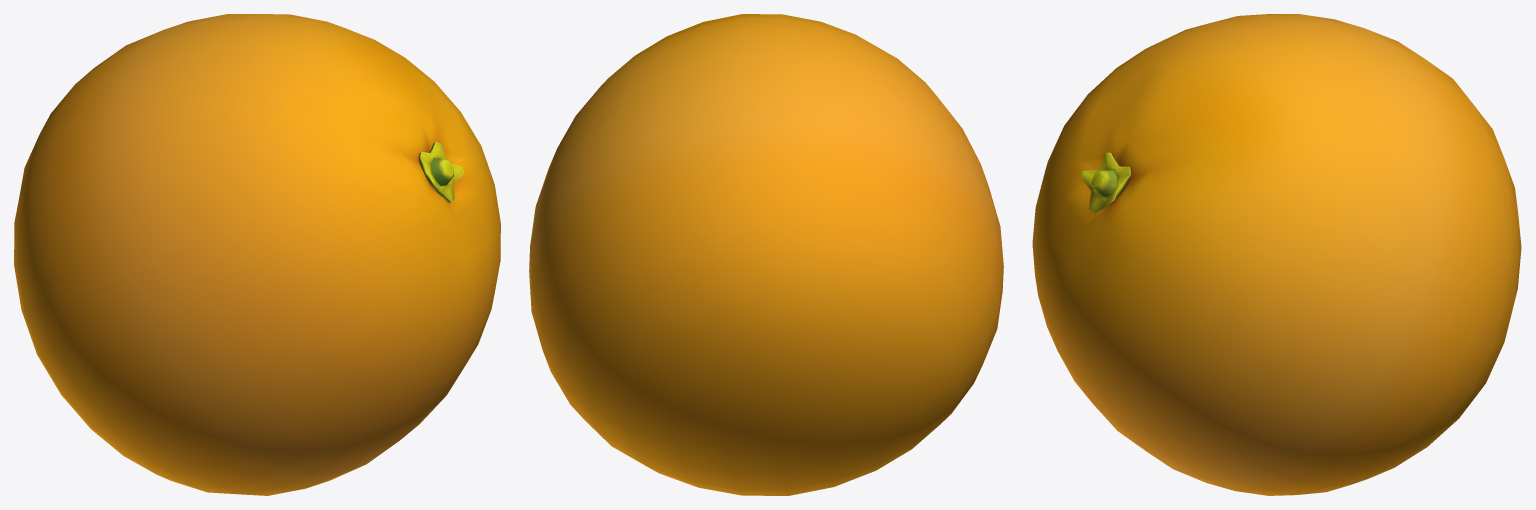
Rendered from orange_final_Draco.glb.
3 views of the same model, side by side, from view 1: azimuth 30°, elevation 25°; view 2: azimuth 150°, elevation 25°; view 3: azimuth 270°, elevation 25° (orthographic).
Parts seen in each view (by area): view 1: orange; view 2: orange; view 3: orange.
Boxes of the visible parts, bbox=[...] form: orange: bbox=[14, 14, 500, 495]; orange: bbox=[529, 14, 1003, 495]; orange: bbox=[1032, 14, 1521, 495].
Size of the model in its own units: 0.9639 by 0.9662 by 0.965.
1 material, 1 textured.
